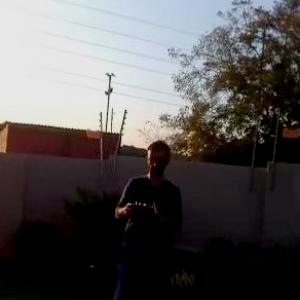follow: (98, 131, 186, 299)
